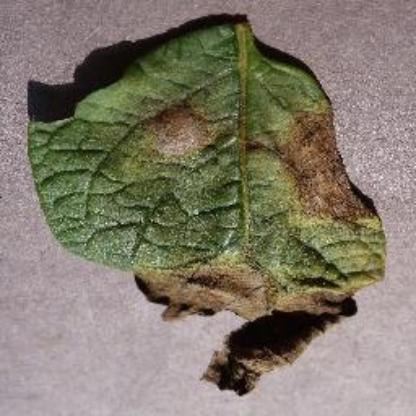Late-Blight: (21, 13, 404, 399)
